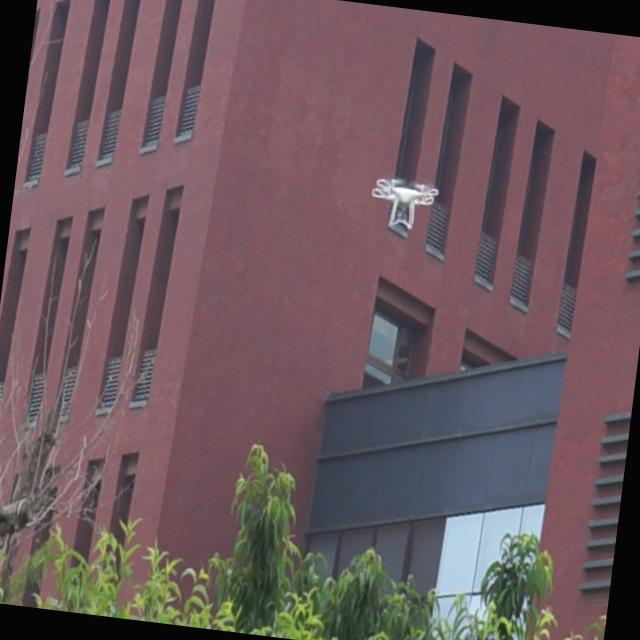drone: (367, 176, 442, 234)
